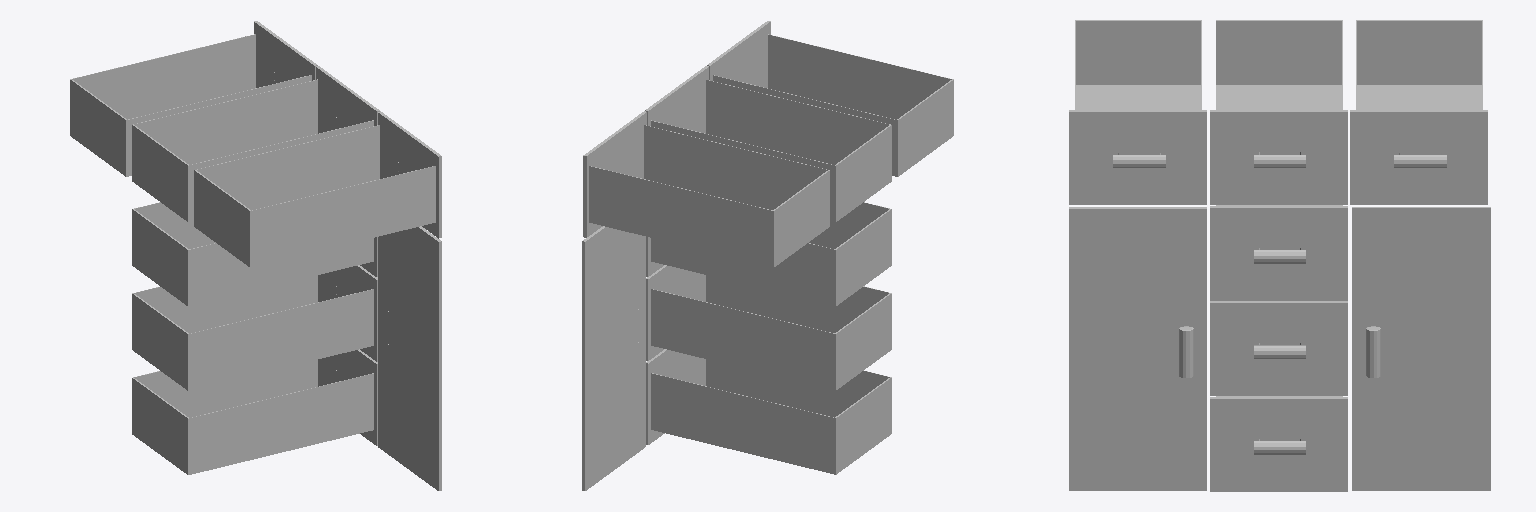
robot.urdf — my_urdf:
<?xml version='1.0' encoding='utf-8'?>
<robot name="my_urdf"><link name="base_link"><visual><origin xyz="0 0 0" rpy="0.0 0.0 0.0" /><material name="white"><color rgba="0.8 0.8 0.8 1" /></material><geometry><mesh filename="../meshes/cabinet.obj" scale="1 1 1" /></geometry></visual><collision><origin xyz="0 0 0" rpy="0.0 0.0 0.0" /><geometry><mesh filename="../meshes/cabinet.obj" scale="1 1 1" /></geometry></collision><inertial><mass value="1" /><inertia ixx="1e-4" ixy="0" ixz="0" iyy="1e-4" iyz="0" izz="1e-4" /></inertial></link><link name="drawer0"><visual><origin xyz="0 0 0" rpy="0 0 0" /><material name="white"><color rgba="0.8 0.8 0.8 1" /></material><geometry><mesh filename="../meshes/parts/drawer.obj" scale="1 1.3133333333333332 0.98" /></geometry></visual><collision><origin xyz="0 0 0" rpy="0 0 0" /><geometry><mesh filename="../meshes/parts/drawer.obj" scale="1 1.3133333333333332 0.98" /></geometry></collision><inertial><mass value="0.2" /><inertia ixx="1e-4" ixy="0" ixz="0" iyy="1e-4" iyz="0" izz="1e-4" /></inertial></link><joint name="drawer0_to_base_link" type="prismatic"><axis xyz="1 0 0" /><limit effort="5" lower="0" upper="0.4" velocity="2.283" /><origin xyz="0 0.0 0.75" rpy="0.0 0.0 0.0" /><parent link="base_link" /><child link="drawer0" /></joint><link name="drawer1"><visual><origin xyz="0 0 0" rpy="0 0 0" /><material name="white"><color rgba="0.8 0.8 0.8 1" /></material><geometry><mesh filename="../meshes/parts/drawer.obj" scale="1 1.3133333333333332 0.98" /></geometry></visual><collision><origin xyz="0 0 0" rpy="0 0 0" /><geometry><mesh filename="../meshes/parts/drawer.obj" scale="1 1.3133333333333332 0.98" /></geometry></collision><inertial><mass value="0.2" /><inertia ixx="1e-4" ixy="0" ixz="0" iyy="1e-4" iyz="0" izz="1e-4" /></inertial></link><joint name="drawer1_to_base_link" type="prismatic"><axis xyz="1 0 0" /><limit effort="5" lower="0" upper="0.4" velocity="2.283" /><origin xyz="0 0.6666666666666666 0.75" rpy="0.0 0.0 0.0" /><parent link="base_link" /><child link="drawer1" /></joint><link name="drawer2"><visual><origin xyz="0 0 0" rpy="0 0 0" /><material name="white"><color rgba="0.8 0.8 0.8 1" /></material><geometry><mesh filename="../meshes/parts/drawer.obj" scale="1 1.3133333333333332 0.98" /></geometry></visual><collision><origin xyz="0 0 0" rpy="0 0 0" /><geometry><mesh filename="../meshes/parts/drawer.obj" scale="1 1.3133333333333332 0.98" /></geometry></collision><inertial><mass value="0.2" /><inertia ixx="1e-4" ixy="0" ixz="0" iyy="1e-4" iyz="0" izz="1e-4" /></inertial></link><joint name="drawer2_to_base_link" type="prismatic"><axis xyz="1 0 0" /><limit effort="5" lower="0" upper="0.4" velocity="2.283" /><origin xyz="0 0.3333333333333333 0.75" rpy="0.0 0.0 0.0" /><parent link="base_link" /><child link="drawer2" /></joint><link name="drawer3"><visual><origin xyz="0 0 0" rpy="0 0 0" /><material name="white"><color rgba="0.8 0.8 0.8 1" /></material><geometry><mesh filename="../meshes/parts/drawer.obj" scale="1 1.3133333333333332 0.98" /></geometry></visual><collision><origin xyz="0 0 0" rpy="0 0 0" /><geometry><mesh filename="../meshes/parts/drawer.obj" scale="1 1.3133333333333332 0.98" /></geometry></collision><inertial><mass value="0.2" /><inertia ixx="1e-4" ixy="0" ixz="0" iyy="1e-4" iyz="0" izz="1e-4" /></inertial></link><joint name="drawer3_to_base_link" type="prismatic"><axis xyz="1 0 0" /><limit effort="5" lower="0" upper="0.4" velocity="2.283" /><origin xyz="0 0.3333333333333333 0.5" rpy="0.0 0.0 0.0" /><parent link="base_link" /><child link="drawer3" /></joint><link name="drawer4"><visual><origin xyz="0 0 0" rpy="0 0 0" /><material name="white"><color rgba="0.8 0.8 0.8 1" /></material><geometry><mesh filename="../meshes/parts/drawer.obj" scale="1 1.3133333333333332 0.98" /></geometry></visual><collision><origin xyz="0 0 0" rpy="0 0 0" /><geometry><mesh filename="../meshes/parts/drawer.obj" scale="1 1.3133333333333332 0.98" /></geometry></collision><inertial><mass value="0.2" /><inertia ixx="1e-4" ixy="0" ixz="0" iyy="1e-4" iyz="0" izz="1e-4" /></inertial></link><joint name="drawer4_to_base_link" type="prismatic"><axis xyz="1 0 0" /><limit effort="5" lower="0" upper="0.4" velocity="2.283" /><origin xyz="0 0.3333333333333333 0.25" rpy="0.0 0.0 0.0" /><parent link="base_link" /><child link="drawer4" /></joint><link name="drawer5"><visual><origin xyz="0 0 0" rpy="0 0 0" /><material name="white"><color rgba="0.8 0.8 0.8 1" /></material><geometry><mesh filename="../meshes/parts/drawer.obj" scale="1 1.3133333333333332 0.98" /></geometry></visual><collision><origin xyz="0 0 0" rpy="0 0 0" /><geometry><mesh filename="../meshes/parts/drawer.obj" scale="1 1.3133333333333332 0.98" /></geometry></collision><inertial><mass value="0.2" /><inertia ixx="1e-4" ixy="0" ixz="0" iyy="1e-4" iyz="0" izz="1e-4" /></inertial></link><joint name="drawer5_to_base_link" type="prismatic"><axis xyz="1 0 0" /><limit effort="5" lower="0" upper="0.4" velocity="2.283" /><origin xyz="0 0.3333333333333333 0.0" rpy="0.0 0.0 0.0" /><parent link="base_link" /><child link="drawer5" /></joint><link name="doorL6"><visual><origin xyz="0 0 0" rpy="0 0 0" /><material name="white"><color rgba="0.8 0.8 0.8 1" /></material><geometry><mesh filename="../meshes/parts/doorL.obj" scale="1 1.3233333333333333 2.99" /></geometry></visual><collision><origin xyz="0 0 0" rpy="0 0 0" /><geometry><mesh filename="../meshes/parts/doorL.obj" scale="1 1.3233333333333333 2.99" /></geometry></collision><inertial><mass value="0.2" /><inertia ixx="1e-4" ixy="0" ixz="0" iyy="1e-4" iyz="0" izz="1e-4" /></inertial></link><joint name="doorL6_to_base_link" type="revolute"><axis xyz="0 0 1" /><limit effort="5" lower="-1.57" upper="0" velocity="2.283" /><origin xyz="0 0.0 0.0" rpy="0.0 0.0 0.0" /><parent link="base_link" /><child link="doorL6" /></joint><link name="doorR7"><visual><origin xyz="0 0 0" rpy="0 0 0" /><material name="white"><color rgba="0.8 0.8 0.8 1" /></material><geometry><mesh filename="../meshes/parts/doorR.obj" scale="1 1.3233333333333333 2.99" /></geometry></visual><collision><origin xyz="0 0 0" rpy="0 0 0" /><geometry><mesh filename="../meshes/parts/doorR.obj" scale="1 1.3233333333333333 2.99" /></geometry></collision><inertial><mass value="0.2" /><inertia ixx="1e-4" ixy="0" ixz="0" iyy="1e-4" iyz="0" izz="1e-4" /></inertial></link><joint name="doorR7_to_base_link" type="revolute"><axis xyz="0 0 1" /><limit effort="5" lower="0" upper="1.57" velocity="2.283" /><origin xyz="0 1.0 0.0" rpy="-0.0 -0.0 -0.0" /><parent link="base_link" /><child link="doorR7" /></joint><link name="handle8"><visual><origin xyz="0 0 0" rpy="0 0 0" /><material name="white"><color rgba="0.8 0.8 0.8 1" /></material><geometry><mesh filename="../meshes/parts/handle.obj" scale="1 1 1" /></geometry></visual><collision><origin xyz="0 0 0" rpy="0 0 0" /><geometry><mesh filename="../meshes/parts/handle.obj" scale="1 1 1" /></geometry></collision><inertial><mass value="0.2" /><inertia ixx="1e-4" ixy="0" ixz="0" iyy="1e-4" iyz="0" izz="1e-4" /></inertial></link><joint name="handle8_to_drawer0" type="fixed"><axis xyz="0 0 1" /><limit effort="5" lower="0" upper="1.57" velocity="2.283" /><origin xyz="0 0.16666666666666666 0.125" rpy="1.5707963267948963 0.0 0.0" /><parent link="drawer0" /><child link="handle8" /></joint><link name="handle9"><visual><origin xyz="0 0 0" rpy="0 0 0" /><material name="white"><color rgba="0.8 0.8 0.8 1" /></material><geometry><mesh filename="../meshes/parts/handle.obj" scale="1 1 1" /></geometry></visual><collision><origin xyz="0 0 0" rpy="0 0 0" /><geometry><mesh filename="../meshes/parts/handle.obj" scale="1 1 1" /></geometry></collision><inertial><mass value="0.2" /><inertia ixx="1e-4" ixy="0" ixz="0" iyy="1e-4" iyz="0" izz="1e-4" /></inertial></link><joint name="handle9_to_drawer1" type="fixed"><axis xyz="0 0 1" /><limit effort="5" lower="0" upper="1.57" velocity="2.283" /><origin xyz="0 0.16666666666666666 0.125" rpy="1.5707963267948963 0.0 0.0" /><parent link="drawer1" /><child link="handle9" /></joint><link name="handle10"><visual><origin xyz="0 0 0" rpy="0 0 0" /><material name="white"><color rgba="0.8 0.8 0.8 1" /></material><geometry><mesh filename="../meshes/parts/handle.obj" scale="1 1 1" /></geometry></visual><collision><origin xyz="0 0 0" rpy="0 0 0" /><geometry><mesh filename="../meshes/parts/handle.obj" scale="1 1 1" /></geometry></collision><inertial><mass value="0.2" /><inertia ixx="1e-4" ixy="0" ixz="0" iyy="1e-4" iyz="0" izz="1e-4" /></inertial></link><joint name="handle10_to_drawer2" type="fixed"><axis xyz="0 0 1" /><limit effort="5" lower="0" upper="1.57" velocity="2.283" /><origin xyz="0 0.16666666666666666 0.125" rpy="1.5707963267948963 0.0 0.0" /><parent link="drawer2" /><child link="handle10" /></joint><link name="handle11"><visual><origin xyz="0 0 0" rpy="0 0 0" /><material name="white"><color rgba="0.8 0.8 0.8 1" /></material><geometry><mesh filename="../meshes/parts/handle.obj" scale="1 1 1" /></geometry></visual><collision><origin xyz="0 0 0" rpy="0 0 0" /><geometry><mesh filename="../meshes/parts/handle.obj" scale="1 1 1" /></geometry></collision><inertial><mass value="0.2" /><inertia ixx="1e-4" ixy="0" ixz="0" iyy="1e-4" iyz="0" izz="1e-4" /></inertial></link><joint name="handle11_to_drawer3" type="fixed"><axis xyz="0 0 1" /><limit effort="5" lower="0" upper="1.57" velocity="2.283" /><origin xyz="0 0.16666666666666666 0.125" rpy="1.5707963267948963 0.0 0.0" /><parent link="drawer3" /><child link="handle11" /></joint><link name="handle12"><visual><origin xyz="0 0 0" rpy="0 0 0" /><material name="white"><color rgba="0.8 0.8 0.8 1" /></material><geometry><mesh filename="../meshes/parts/handle.obj" scale="1 1 1" /></geometry></visual><collision><origin xyz="0 0 0" rpy="0 0 0" /><geometry><mesh filename="../meshes/parts/handle.obj" scale="1 1 1" /></geometry></collision><inertial><mass value="0.2" /><inertia ixx="1e-4" ixy="0" ixz="0" iyy="1e-4" iyz="0" izz="1e-4" /></inertial></link><joint name="handle12_to_drawer4" type="fixed"><axis xyz="0 0 1" /><limit effort="5" lower="0" upper="1.57" velocity="2.283" /><origin xyz="0 0.16666666666666666 0.125" rpy="1.5707963267948963 0.0 0.0" /><parent link="drawer4" /><child link="handle12" /></joint><link name="handle13"><visual><origin xyz="0 0 0" rpy="0 0 0" /><material name="white"><color rgba="0.8 0.8 0.8 1" /></material><geometry><mesh filename="../meshes/parts/handle.obj" scale="1 1 1" /></geometry></visual><collision><origin xyz="0 0 0" rpy="0 0 0" /><geometry><mesh filename="../meshes/parts/handle.obj" scale="1 1 1" /></geometry></collision><inertial><mass value="0.2" /><inertia ixx="1e-4" ixy="0" ixz="0" iyy="1e-4" iyz="0" izz="1e-4" /></inertial></link><joint name="handle13_to_drawer5" type="fixed"><axis xyz="0 0 1" /><limit effort="5" lower="0" upper="1.57" velocity="2.283" /><origin xyz="0 0.16666666666666666 0.125" rpy="1.5707963267948963 0.0 0.0" /><parent link="drawer5" /><child link="handle13" /></joint><link name="handle14"><visual><origin xyz="0 0 0" rpy="0 0 0" /><material name="white"><color rgba="0.8 0.8 0.8 1" /></material><geometry><mesh filename="../meshes/parts/handle.obj" scale="1 1 1" /></geometry></visual><collision><origin xyz="0 0 0" rpy="0 0 0" /><geometry><mesh filename="../meshes/parts/handle.obj" scale="1 1 1" /></geometry></collision><inertial><mass value="0.2" /><inertia ixx="1e-4" ixy="0" ixz="0" iyy="1e-4" iyz="0" izz="1e-4" /></inertial></link><joint name="handle14_to_doorL6" type="fixed"><axis xyz="1 0 0" /><limit effort="5" lower="0" upper="1.57" velocity="2.283" /><origin xyz="0 0.2777777777777778 0.375" rpy="0.0 0.0 0.0" /><parent link="doorL6" /><child link="handle14" /></joint><link name="handle15"><visual><origin xyz="0 0 0" rpy="0 0 0" /><material name="white"><color rgba="0.8 0.8 0.8 1" /></material><geometry><mesh filename="../meshes/parts/handle.obj" scale="1 1 1" /></geometry></visual><collision><origin xyz="0 0 0" rpy="0 0 0" /><geometry><mesh filename="../meshes/parts/handle.obj" scale="1 1 1" /></geometry></collision><inertial><mass value="0.2" /><inertia ixx="1e-4" ixy="0" ixz="0" iyy="1e-4" iyz="0" izz="1e-4" /></inertial></link><joint name="handle15_to_doorR7" type="fixed"><axis xyz="1 0 0" /><limit effort="5" lower="0" upper="1.57" velocity="2.283" /><origin xyz="0 -0.2777777777777778 0.375" rpy="0.0 0.0 0.0" /><parent link="doorR7" /><child link="handle15" /></joint></robot>

--- What the picture shows (computed from the rendered views, not written in the file) ---
The picture shows the robot from 3 angles, left to right: view 1: azimuth 30°, elevation 25°; view 2: azimuth 150°, elevation 25°; view 3: azimuth 270°, elevation 25°; orthographic projection.
Robot: my_urdf — 17 links, 16 joints (2 revolute, 6 prismatic, 8 fixed); root link base_link; default pose: all joints at 0.
Visible links, largest first — view 1: drawer0, drawer4, drawer5, drawer2, drawer1, doorL6, drawer3; view 2: drawer1, drawer4, drawer5, drawer0, drawer2, doorR7, drawer3; view 3: doorR7, doorL6, drawer2, drawer1, drawer0, drawer3, drawer5, drawer4, handle14, handle15, handle11, handle12 (+4 smaller).
Link boxes in pixels (x1=…): drawer0: x1=194, y1=111, x2=441, y2=267; drawer4: x1=132, y1=265, x2=377, y2=390; drawer5: x1=132, y1=349, x2=377, y2=474; drawer2: x1=132, y1=66, x2=379, y2=221; drawer1: x1=70, y1=21, x2=317, y2=176; doorL6: x1=378, y1=226, x2=441, y2=490; drawer3: x1=132, y1=202, x2=377, y2=306; drawer1: x1=583, y1=111, x2=829, y2=267; drawer4: x1=646, y1=265, x2=891, y2=390; drawer5: x1=646, y1=349, x2=891, y2=474; drawer0: x1=707, y1=21, x2=953, y2=176; drawer2: x1=645, y1=66, x2=891, y2=221; doorR7: x1=582, y1=226, x2=645, y2=490; drawer3: x1=646, y1=202, x2=891, y2=306; doorR7: x1=1352, y1=207, x2=1490, y2=490; doorL6: x1=1069, y1=207, x2=1206, y2=490; drawer2: x1=1210, y1=20, x2=1347, y2=204; drawer1: x1=1350, y1=20, x2=1487, y2=204; drawer0: x1=1069, y1=20, x2=1206, y2=204; drawer3: x1=1210, y1=205, x2=1347, y2=300; drawer5: x1=1210, y1=396, x2=1347, y2=491; drawer4: x1=1210, y1=301, x2=1347, y2=395; handle14: x1=1179, y1=326, x2=1193, y2=377; handle15: x1=1366, y1=326, x2=1380, y2=377; handle11: x1=1254, y1=248, x2=1305, y2=263; handle12: x1=1254, y1=343, x2=1305, y2=358.
Bounding box of the posed robot: 0.6223 × 1 × 0.993 m (x, y, z).
Meshes: 5 distinct files referenced, 16 mesh visuals loaded (4 OBJ); not drawn: 1 (reference not matched to a file when rendering).